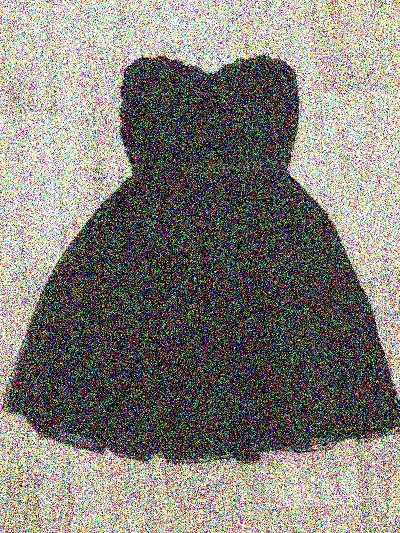Dress: (10, 46, 395, 477)
